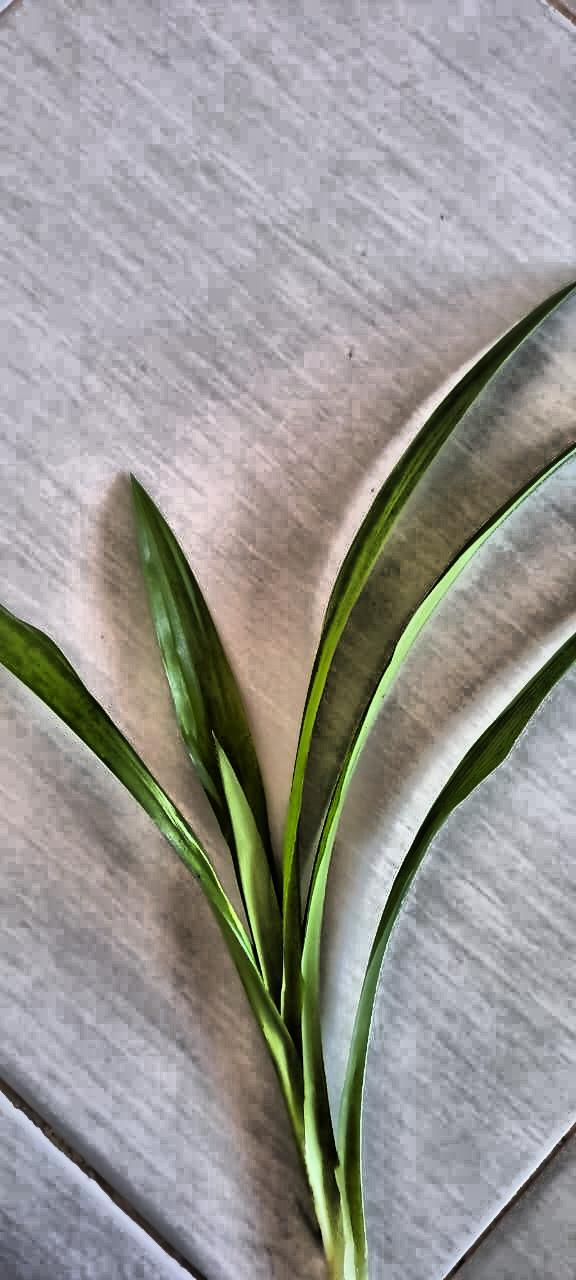daun pandan: (0, 286, 575, 1279)
